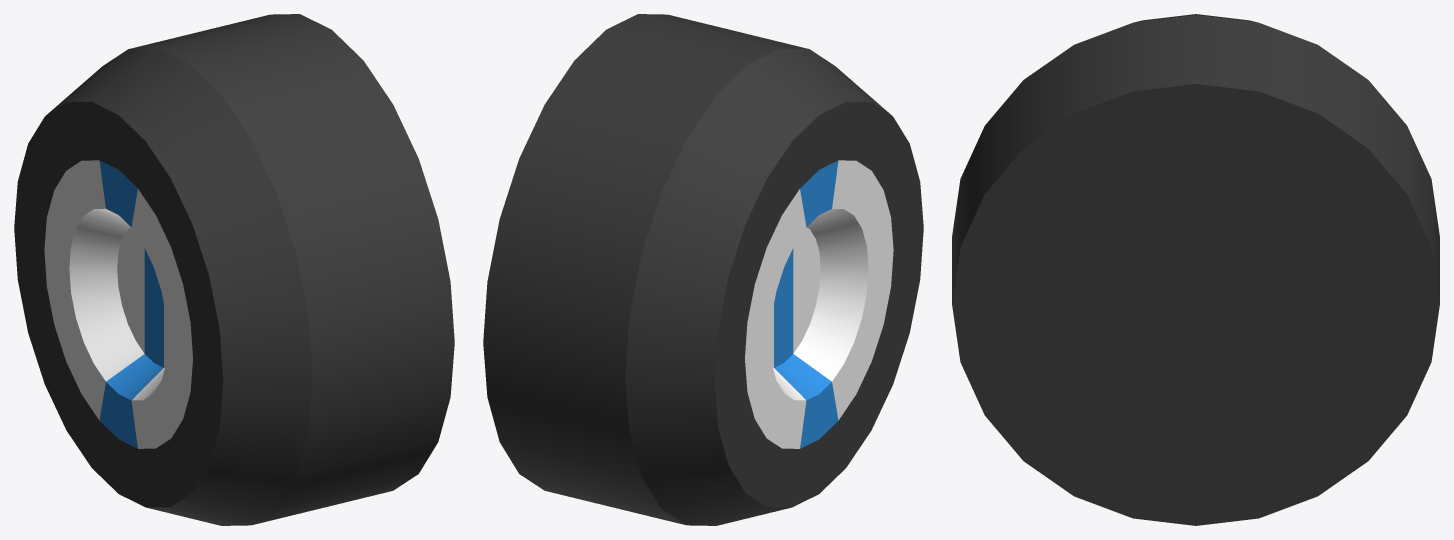
File: wheelDefault2.glb
3 views of the same model, side by side, from view 1: azimuth 30°, elevation 25°; view 2: azimuth 150°, elevation 25°; view 3: azimuth 270°, elevation 25° (orthographic).
Parts seen in each view (by area): view 1: wheelDefault; view 2: wheelDefault; view 3: wheelDefault.
Part boxes in pixels (bbox=[...]): wheelDefault: bbox=[14, 14, 454, 525]; wheelDefault: bbox=[483, 14, 923, 525]; wheelDefault: bbox=[952, 14, 1439, 525].
Size of the model in its own units: 0.3 by 0.6 by 0.6.
